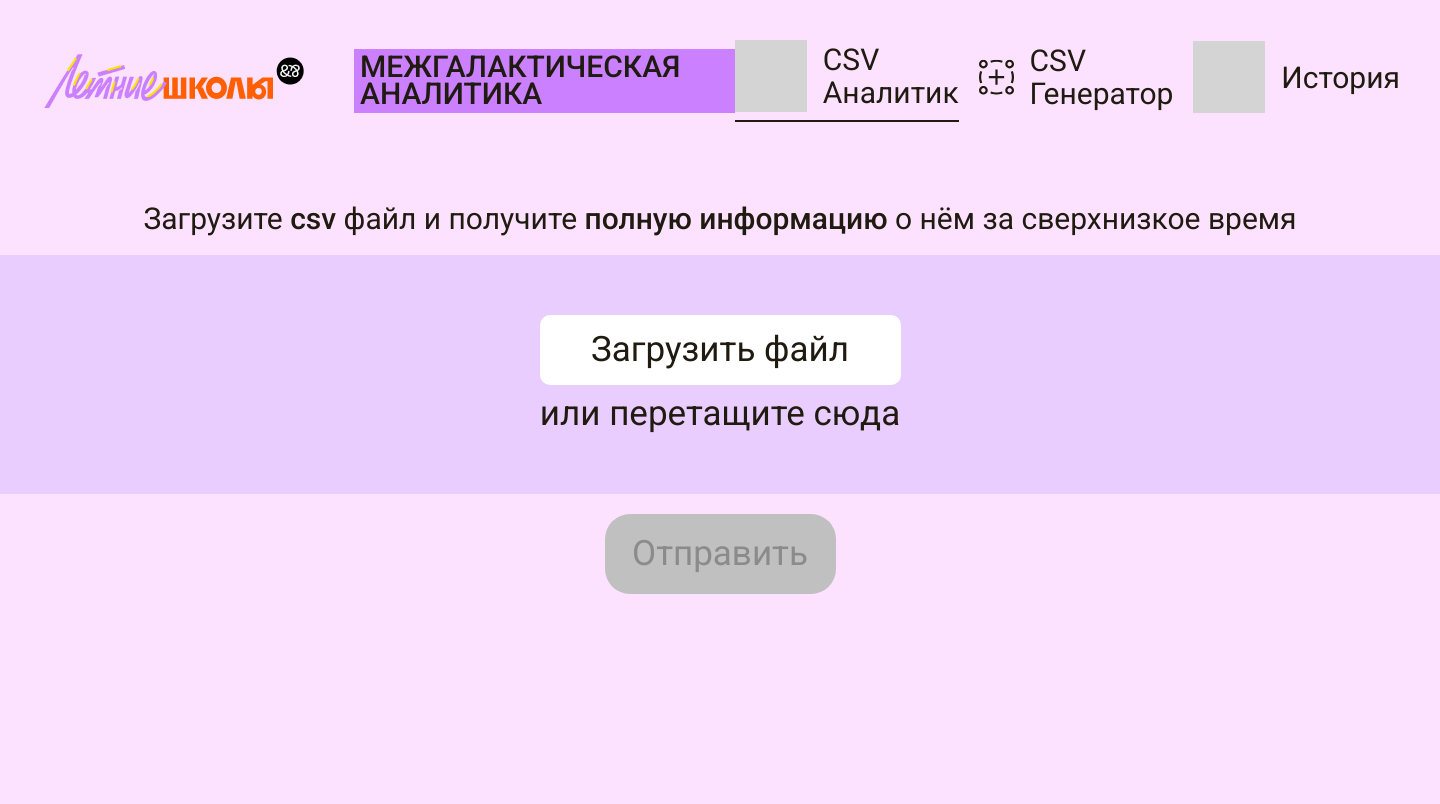
Test: тестирование роутинга › навигация работает корректно при клике на ссылки в шапке
Click the link "История".
click(1297, 79)  # box x1=1193 y1=41 x2=1400 y2=117
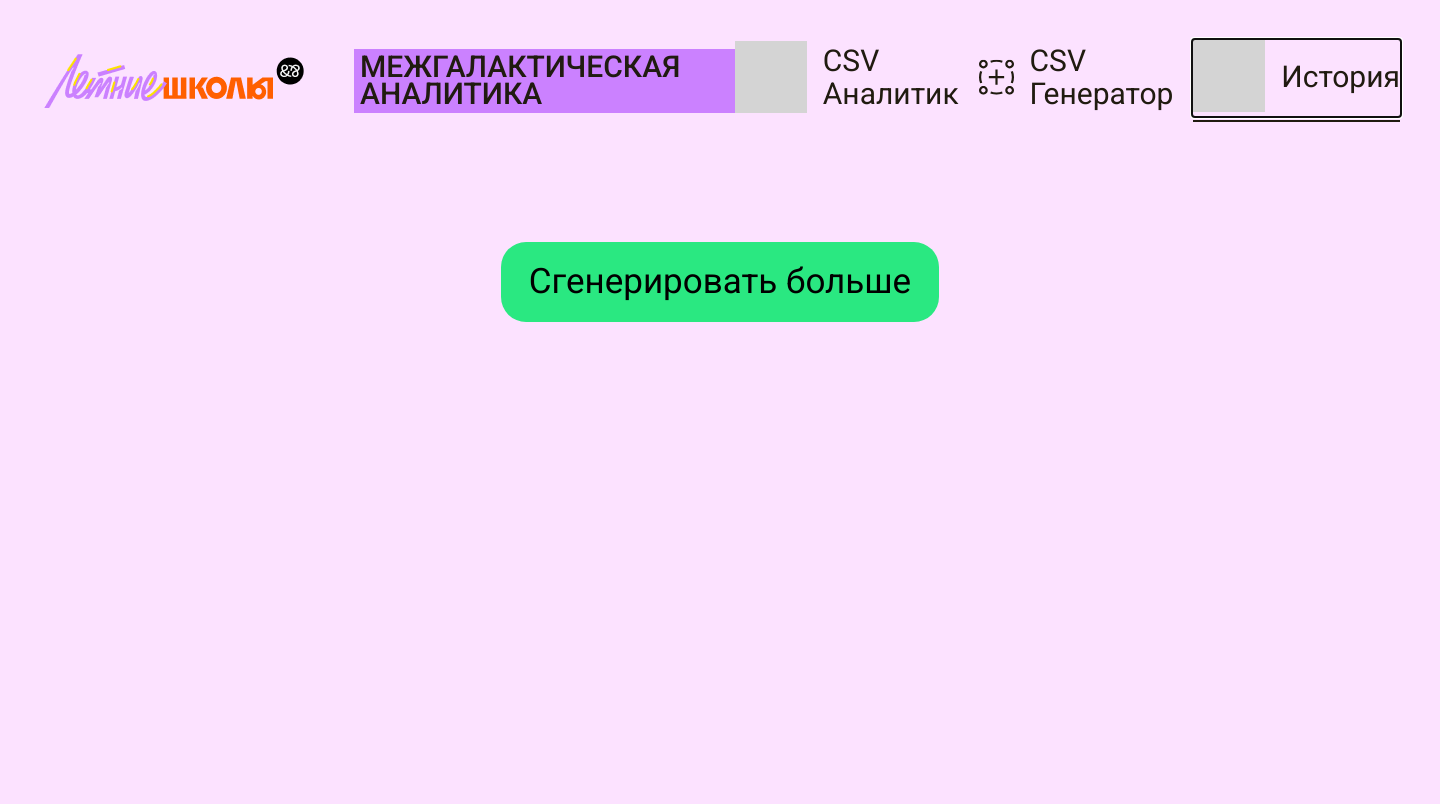
Click the link "CSV Генератор".
click(1076, 79)  # box x1=979 y1=44 x2=1173 y2=114
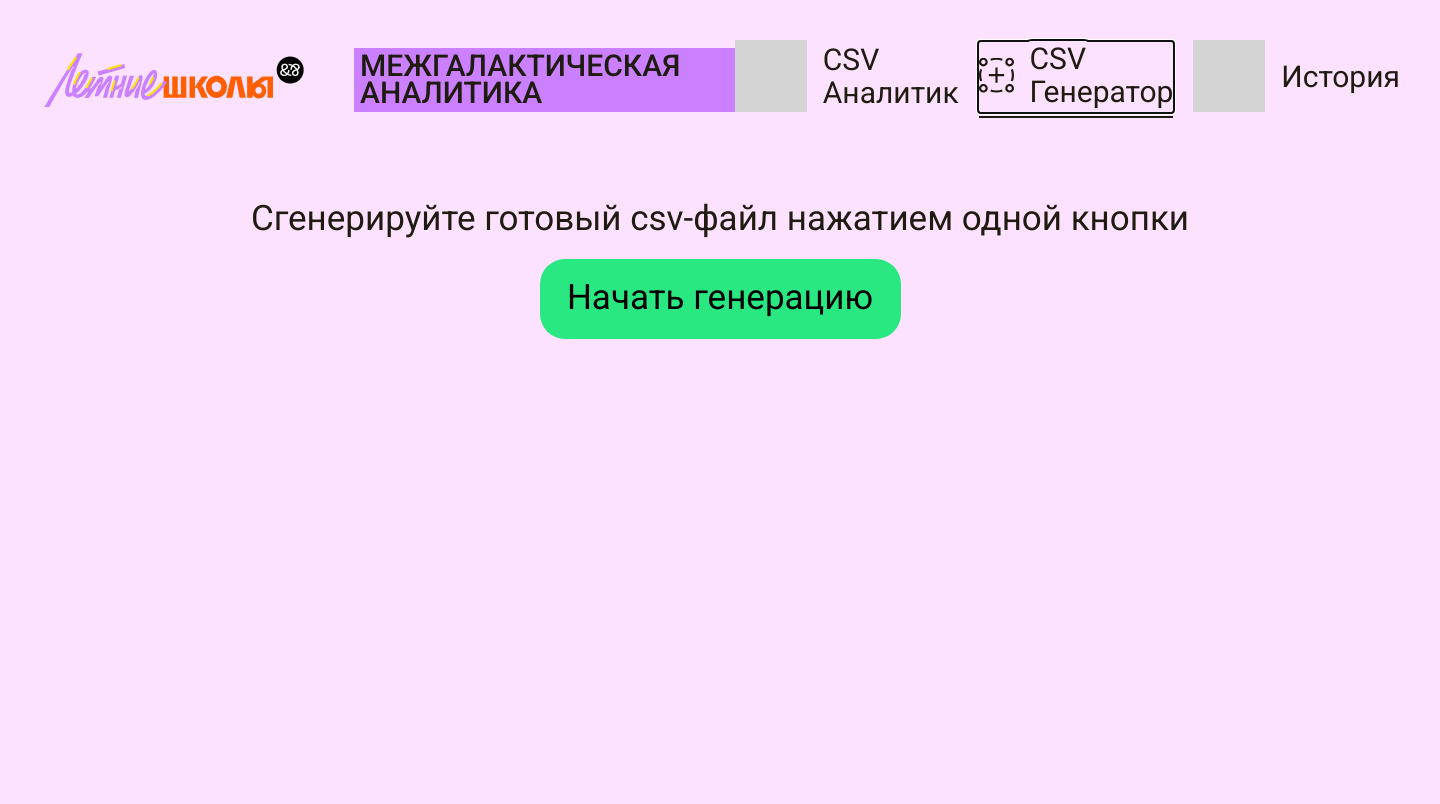
Now the element with test id "generator-heading" is shown, box x1=251 y1=198 x2=1189 y2=338
